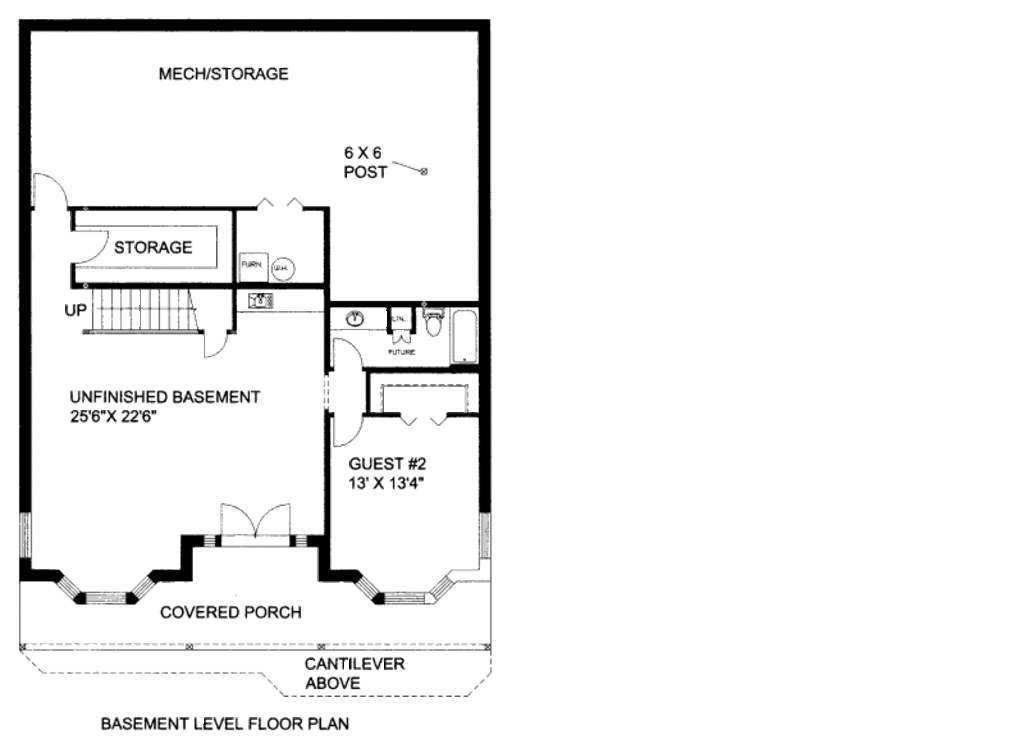door: (215, 501, 296, 549), (59, 223, 116, 271), (22, 164, 74, 212), (329, 409, 363, 452), (196, 324, 238, 358), (330, 337, 361, 371)
large_sink: (413, 304, 447, 342)
small_sink: (334, 309, 375, 331)
stairs: (62, 287, 205, 335)
tub: (446, 302, 480, 363)
window: (349, 559, 455, 612), (58, 571, 159, 609), (478, 505, 501, 562), (16, 505, 37, 559)
